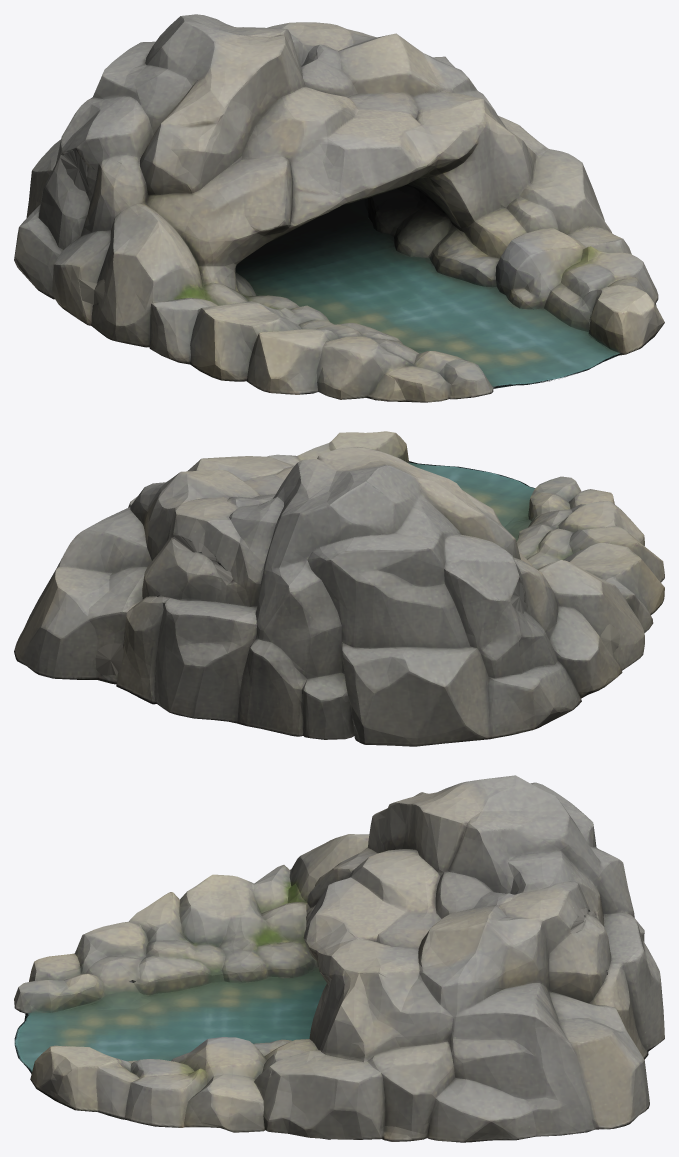
The picture shows the model from 3 angles, top to bottom: view 1: azimuth 30°, elevation 25°; view 2: azimuth 150°, elevation 25°; view 3: azimuth 270°, elevation 25°; orthographic projection.
Visible parts, largest first — view 1: world; view 2: world; view 3: world.
Part boxes in pixels (left/top/right/bottom): world: left=14, top=14, right=664, bottom=402; world: left=14, top=431, right=664, bottom=746; world: left=14, top=775, right=664, bottom=1142.
Bounding box in the file's own units: 5.37 × 2.46 × 6.
Materials: 4 (2 with a texture image).
